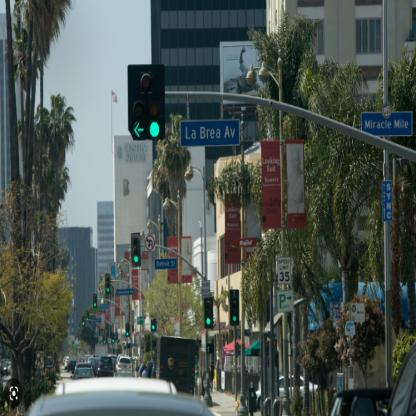green: (146, 65, 166, 138), (229, 289, 240, 326), (131, 232, 141, 268), (204, 296, 213, 329)
left-green: (128, 68, 149, 140)
